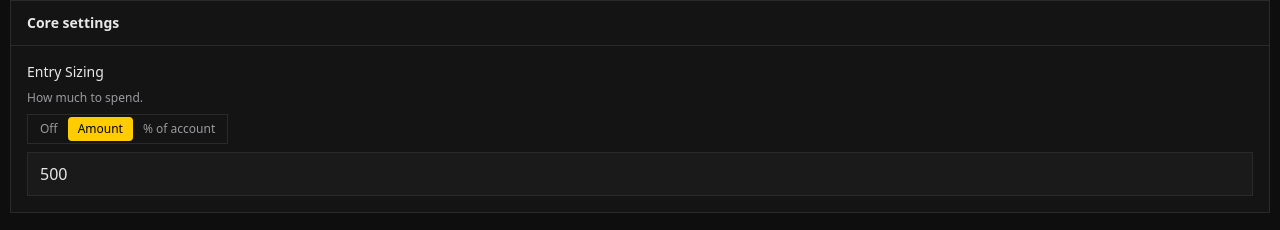
Test: amount-or-percent widget › supports an off mode (account cap) that hides every input
Expected: the field showing "500" is shown, x1=27 y1=152 x2=1253 y2=196
Click the button "Off". click: (49, 128)
box: x1=30 y1=116 x2=68 y2=140
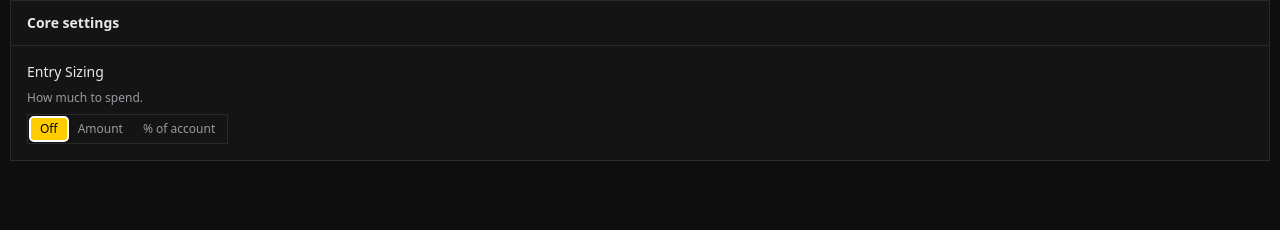
Result: the field is gone
